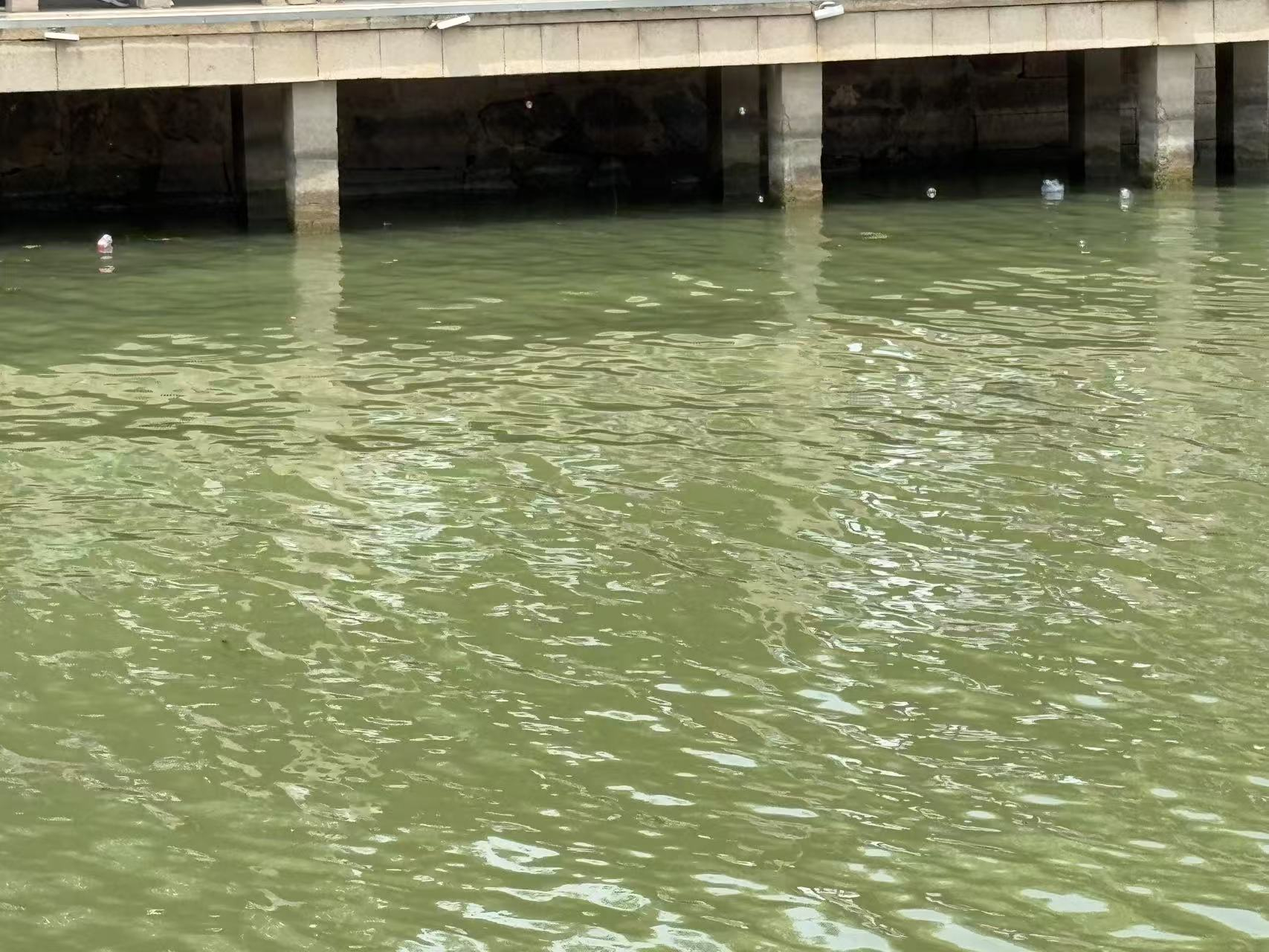Plastic wastes: (1040, 176, 1065, 197), (95, 231, 117, 254), (1117, 186, 1134, 201)
